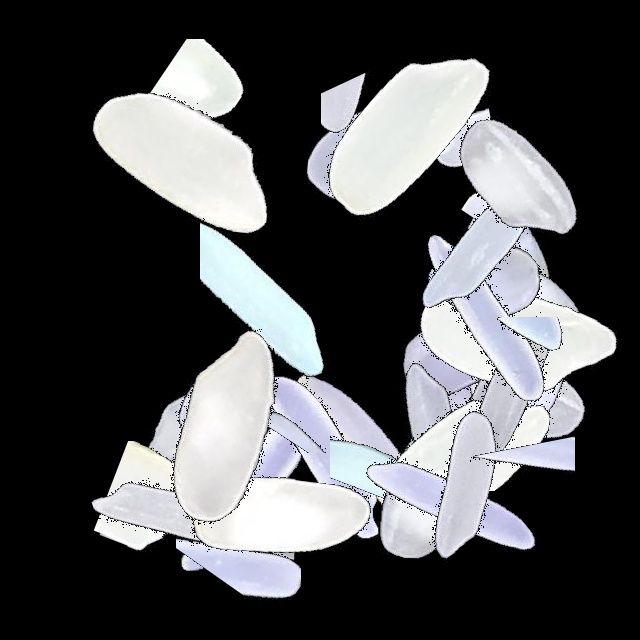Broken: (200, 161, 373, 411), (339, 405, 589, 576), (90, 433, 340, 591), (344, 345, 594, 491), (330, 306, 466, 556), (49, 441, 299, 575), (325, 192, 575, 325), (176, 390, 301, 640), (457, 382, 575, 632), (378, 17, 494, 267), (321, 4, 433, 254), (135, 390, 246, 640), (199, 348, 449, 453), (89, 39, 339, 143), (440, 301, 542, 551), (73, 427, 323, 527), (383, 317, 633, 413), (390, 148, 640, 237), (377, 337, 627, 421), (449, 18, 530, 268), (307, 134, 557, 213), (319, 180, 569, 255)
Full: (85, 298, 335, 548), (227, 26, 477, 276), (57, 37, 307, 287), (321, 302, 571, 552), (390, 136, 640, 386), (238, 330, 488, 580), (115, 366, 365, 616), (85, 380, 335, 630), (197, 333, 447, 583), (390, 178, 640, 428), (390, 262, 640, 512), (329, 231, 579, 481), (372, 238, 622, 488), (93, 301, 343, 551), (306, 311, 556, 561), (390, 268, 640, 518), (390, 216, 640, 466), (360, 155, 610, 405), (42, 390, 292, 640), (328, 381, 578, 631), (338, 358, 588, 608), (150, 390, 400, 640), (359, 192, 609, 442), (351, 126, 601, 376), (278, 3, 528, 253), (101, 306, 351, 556), (390, 55, 640, 305)
